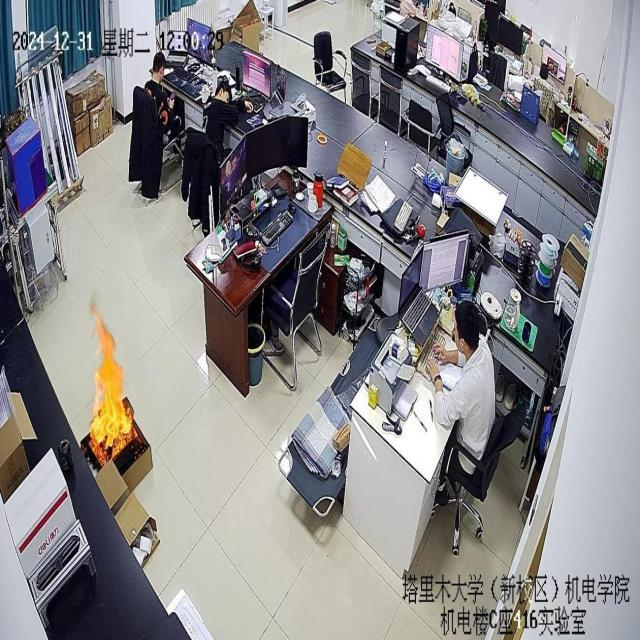smoke: (86, 302, 135, 464)
